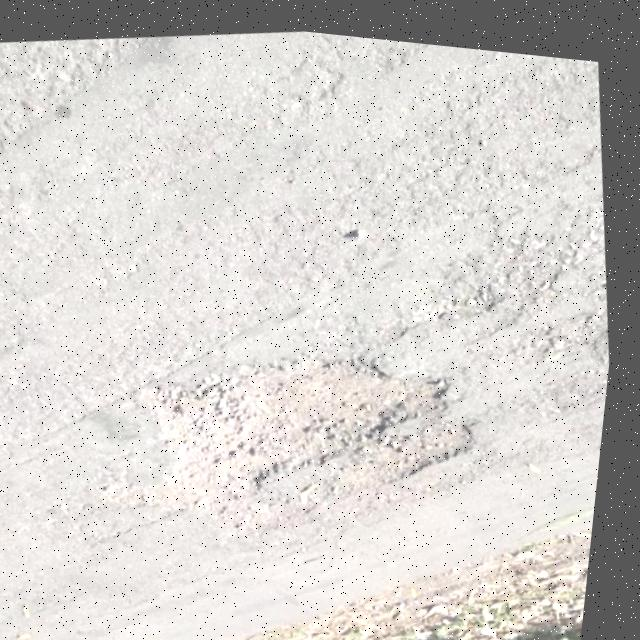Pothole: (78, 303, 508, 571)
